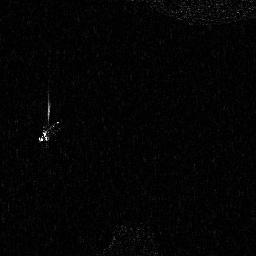ship: (36, 120, 62, 142)
